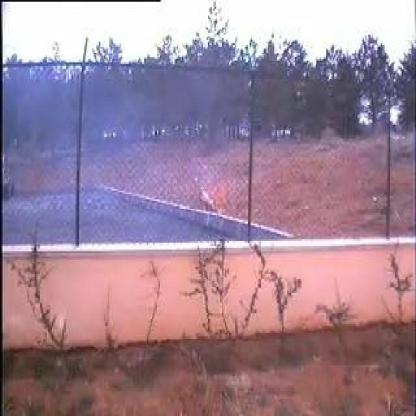-: (79, 80, 202, 246)
